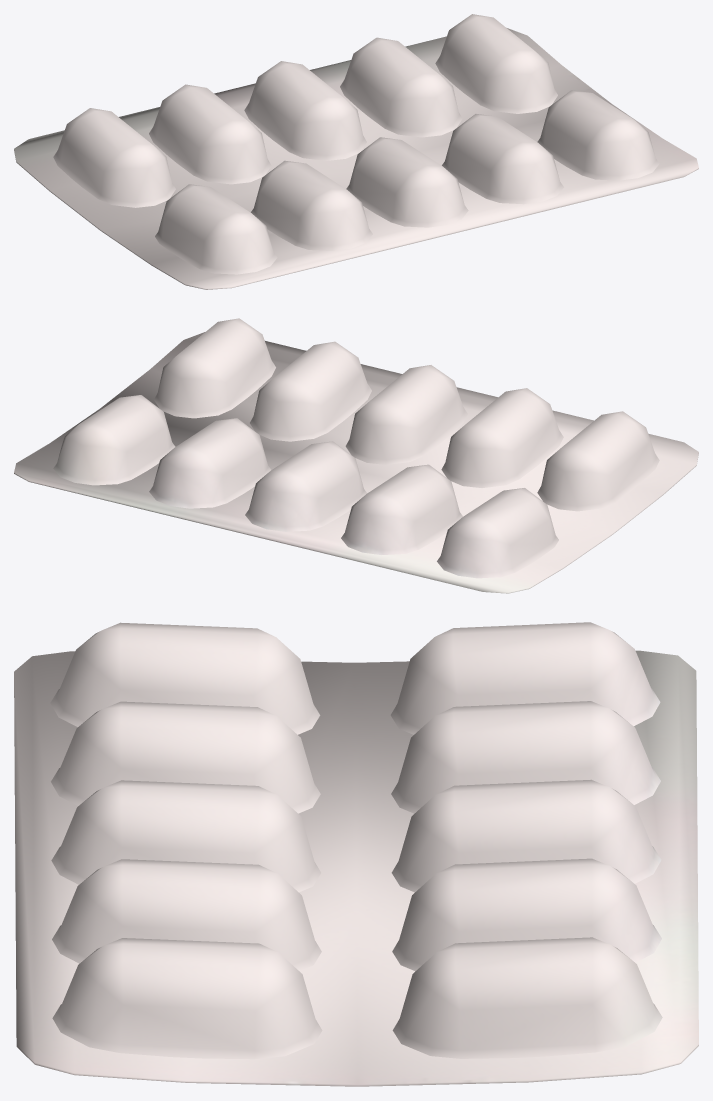
The model's file is medicine06.fbx.
3 renders of one model, top to bottom at view 1: azimuth 30°, elevation 25°; view 2: azimuth 150°, elevation 25°; view 3: azimuth 270°, elevation 25°, orthographic. The views are drawn at different scales.
Visible parts, largest first — view 1: medicine06; view 2: medicine06; view 3: medicine06.
Boxes of the visible parts, box(x1,y1,x2,y2) form: medicine06: box(14, 14, 698, 289); medicine06: box(14, 318, 698, 593); medicine06: box(14, 622, 698, 1086).
Size of the model in its own units: 8.84 by 0.8766 by 6.06.
1 material, 1 textured.
